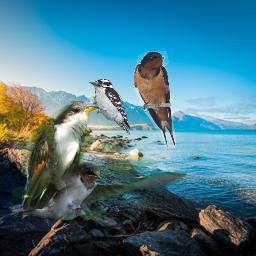Cuckoo: (22, 101, 100, 210)
Swallow: (12, 128, 187, 221), (133, 51, 176, 148)
Woodpecker: (89, 79, 130, 135)
